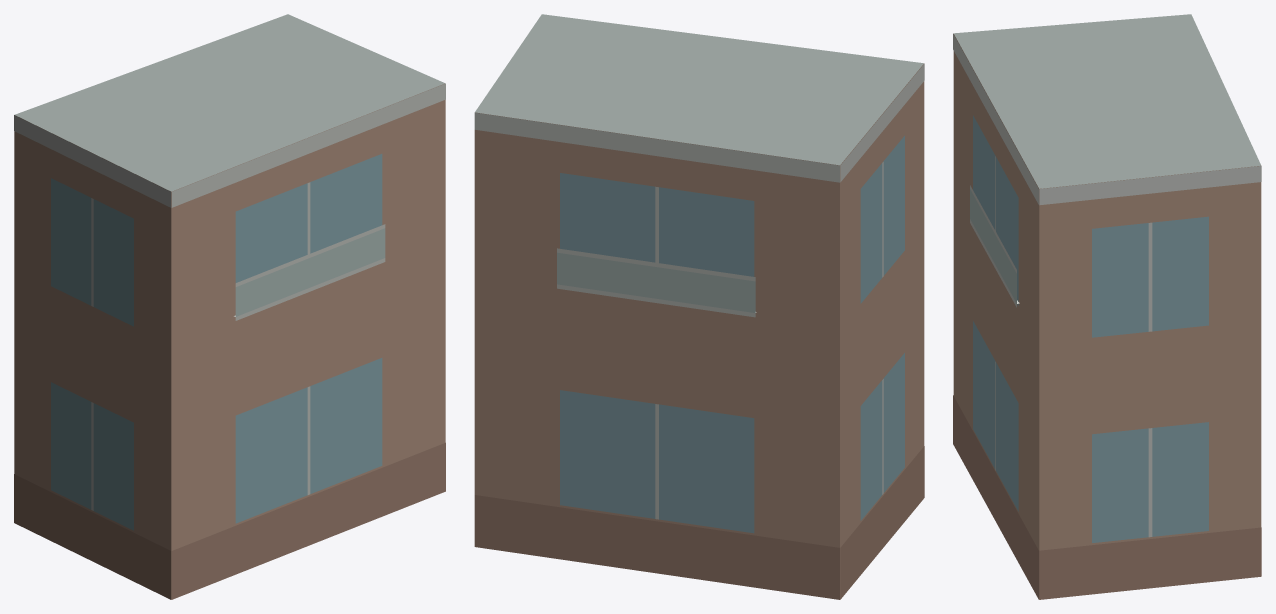
Rendered from survey-upis-32500556.glb.
3 views of the same model, side by side, from view 1: azimuth 30°, elevation 25°; view 2: azimuth 150°, elevation 25°; view 3: azimuth 270°, elevation 25° (orthographic). The views are drawn at different scales.
Parts seen in each view (by area): view 1: survey-upis-32500556.tmp; view 2: survey-upis-32500556.tmp; view 3: survey-upis-32500556.tmp.
Boxes of the visible parts, box(x1,y1,x2,y2) form: survey-upis-32500556.tmp: box(14, 14, 445, 599); survey-upis-32500556.tmp: box(474, 14, 924, 599); survey-upis-32500556.tmp: box(953, 14, 1261, 599).
Size of the model in its own units: 5.57 by 6.1 by 4.15.
